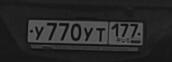license-plateSW: (26, 18, 146, 47)
